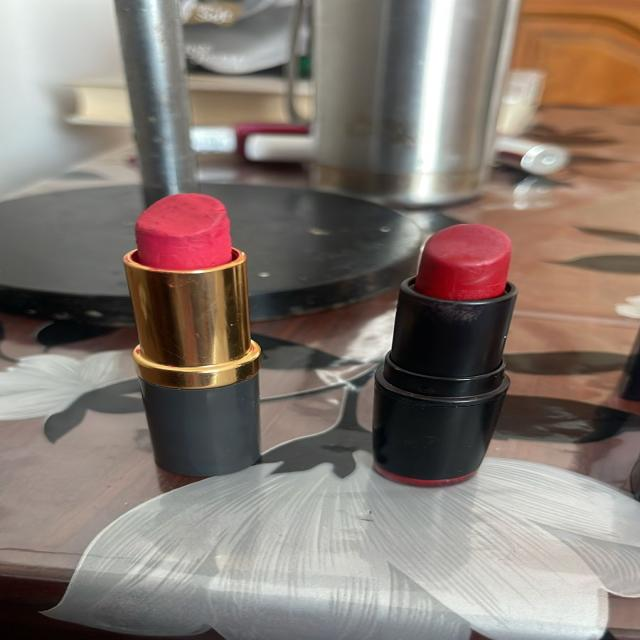lip stick: (111, 178, 290, 490), (357, 210, 548, 497)
